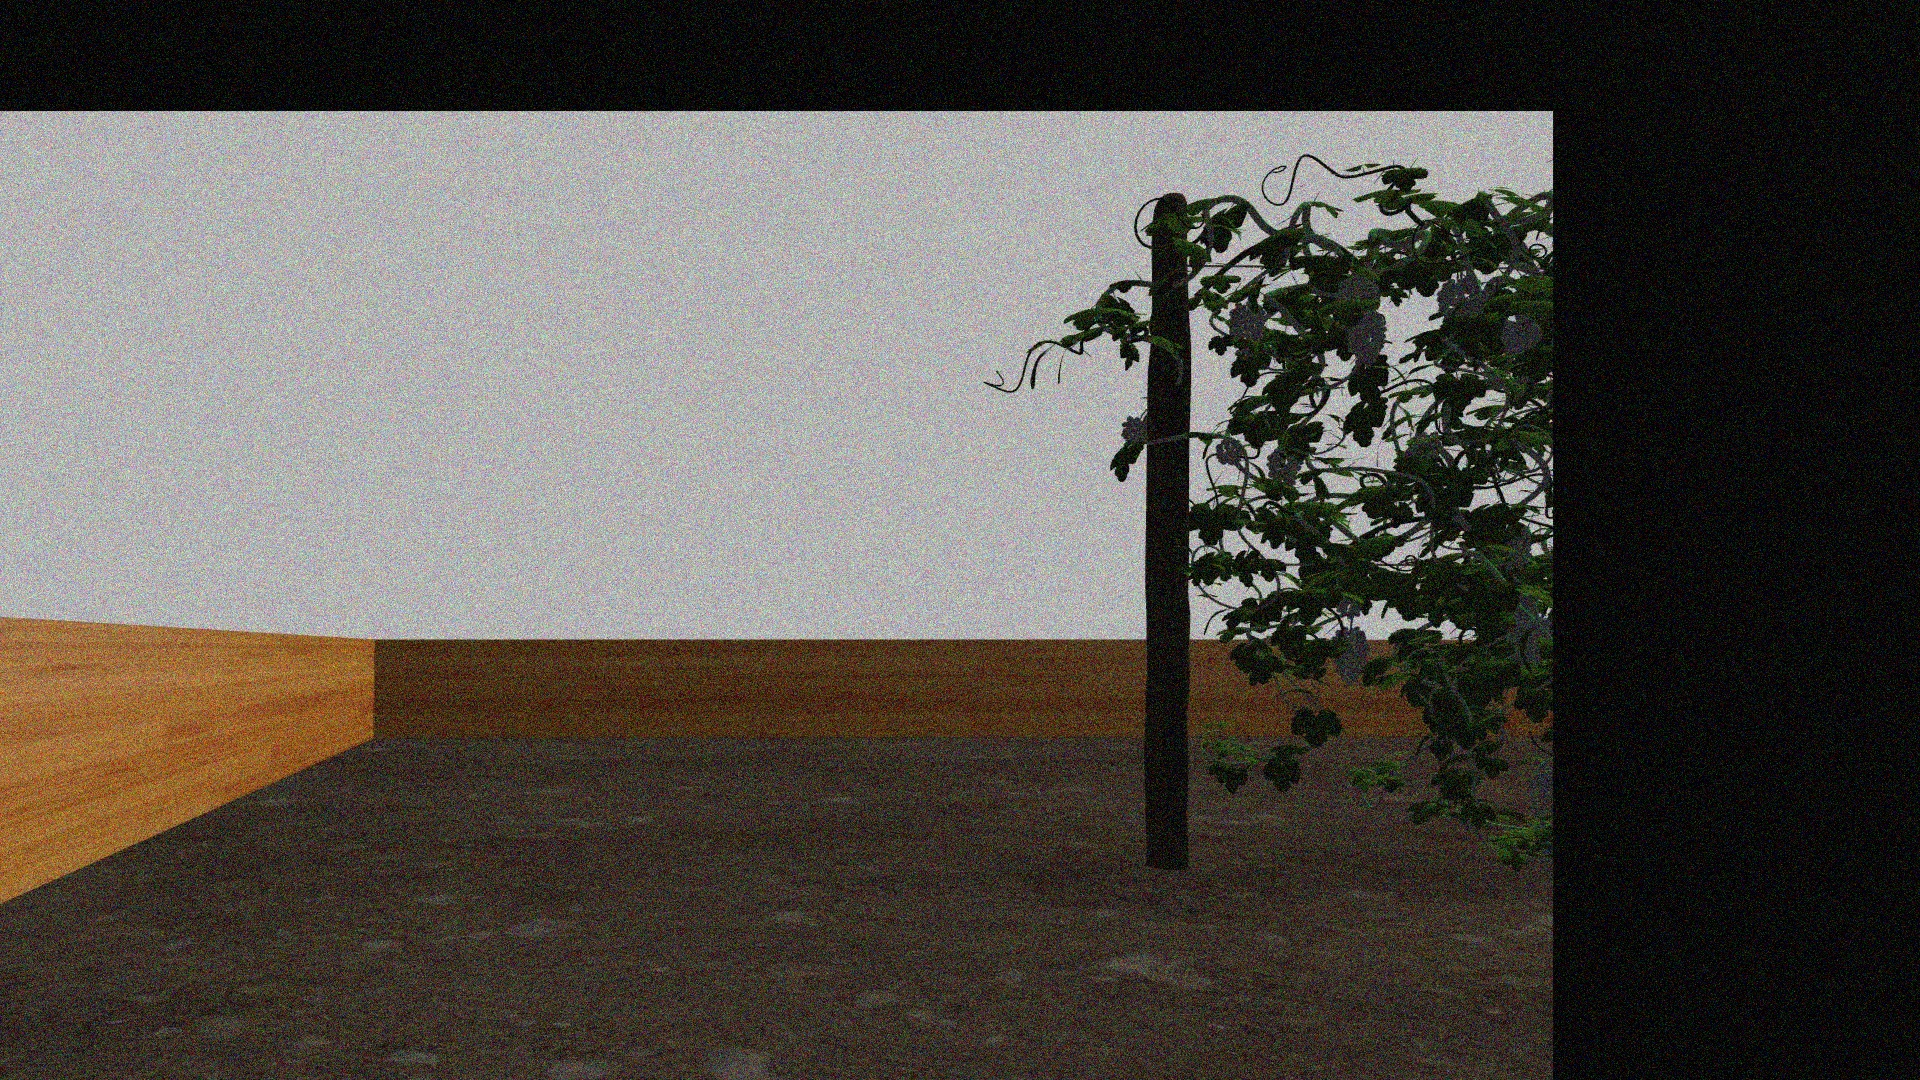grape: (1327, 624, 1371, 684), (1346, 313, 1387, 367), (1503, 618, 1543, 669), (1226, 305, 1266, 353), (1501, 314, 1543, 356), (1436, 280, 1480, 320), (1266, 448, 1302, 487), (1338, 276, 1378, 303), (1121, 415, 1147, 444), (1215, 439, 1244, 465)
